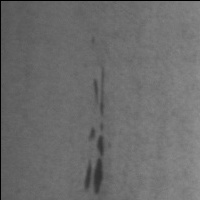inclusion: (88, 60, 110, 158), (81, 156, 107, 199)
